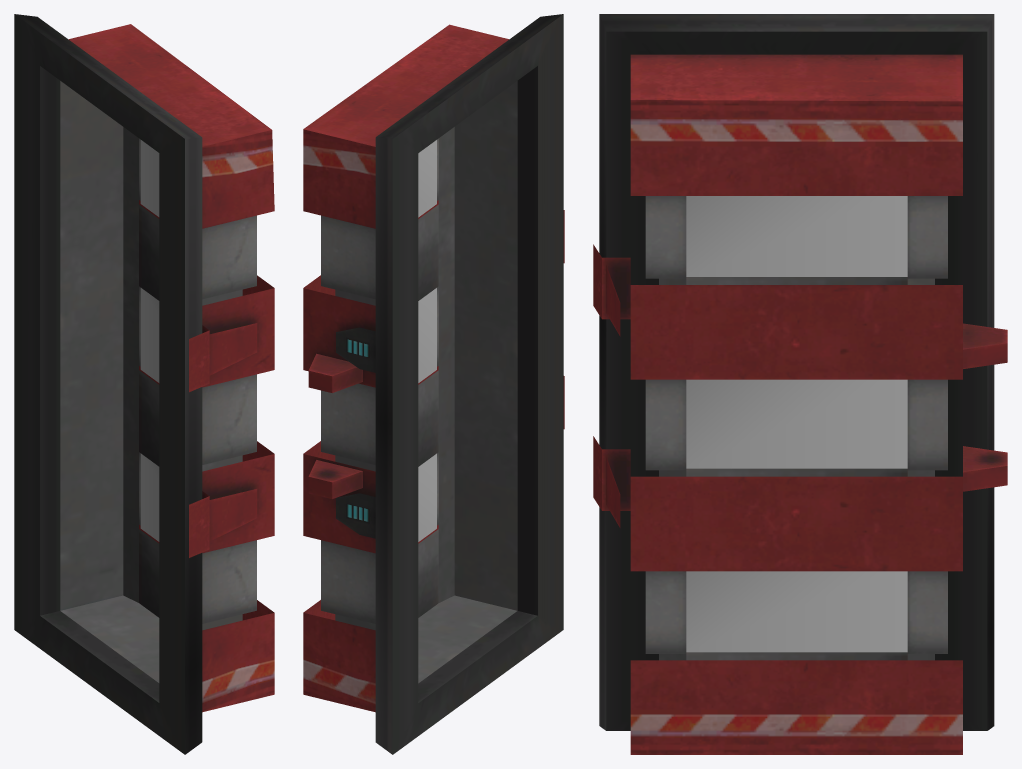
The model's file is p6_future_fire_extinguisher_case_door_mil_lod2.glb.
3 views of the same model, side by side, from view 1: azimuth 30°, elevation 25°; view 2: azimuth 150°, elevation 25°; view 3: azimuth 270°, elevation 25° (orthographic). The views are drawn at different scales.
Visible parts, largest first — view 1: surf0, surf1; view 2: surf0, surf1; view 3: surf0, surf1.
Boxes of the visible parts, x1,y1,x2,y2 form: surf0: (14,14,274,754); surf1: (140,140,159,541); surf0: (303,14,564,754); surf1: (418,140,436,541); surf0: (593,14,1007,754); surf1: (686,196,907,652).
Bounding box in the file's own units: 6.36 × 36.33 × 19.15.
